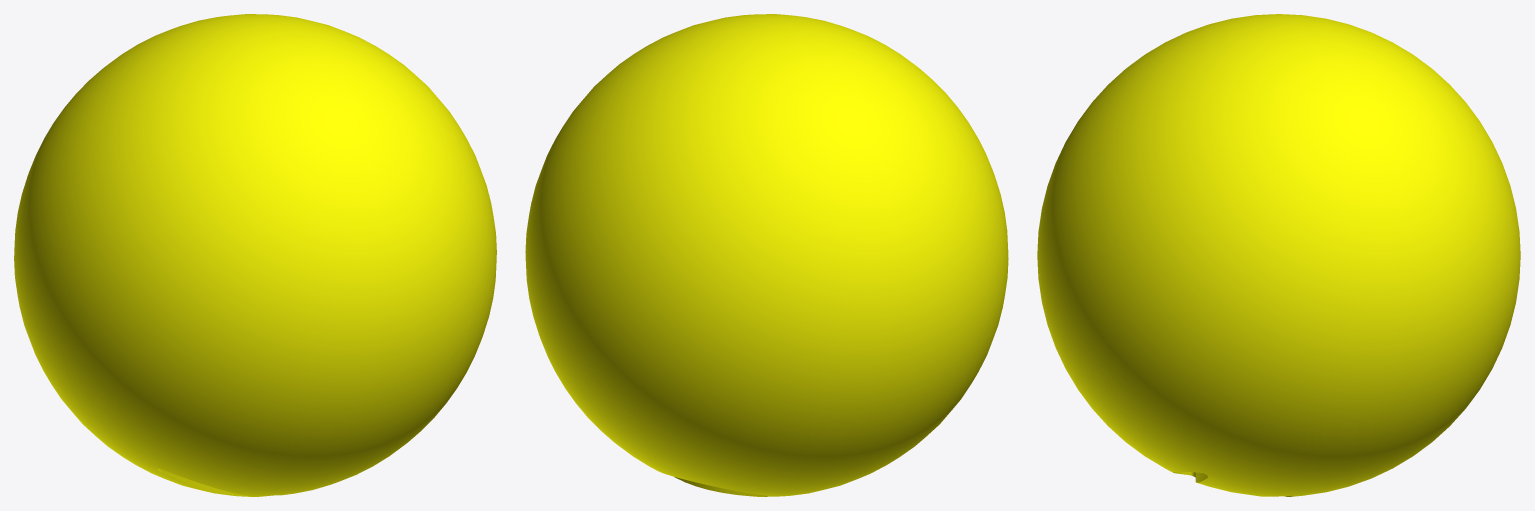
File: blush.fbx
The picture shows the model from 3 angles, left to right: view 1: azimuth 30°, elevation 25°; view 2: azimuth 150°, elevation 25°; view 3: azimuth 270°, elevation 25°; orthographic projection.
Parts seen in each view (by area): view 1: Object_1; view 2: Object_1; view 3: Object_1.
Boxes of the visible parts, x1=… form: Object_1: x1=14, y1=14, x2=496, y2=496; Object_1: x1=525, y1=14, x2=1008, y2=496; Object_1: x1=1037, y1=14, x2=1520, y2=496.
Size of the model in its own units: 39.43 by 39.43 by 39.43.
